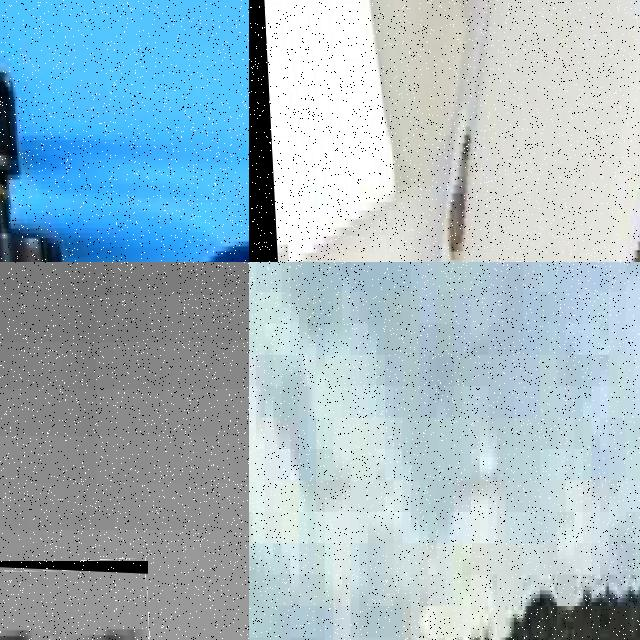drone: (249, 0, 640, 262), (0, 0, 249, 262), (0, 561, 148, 640)
